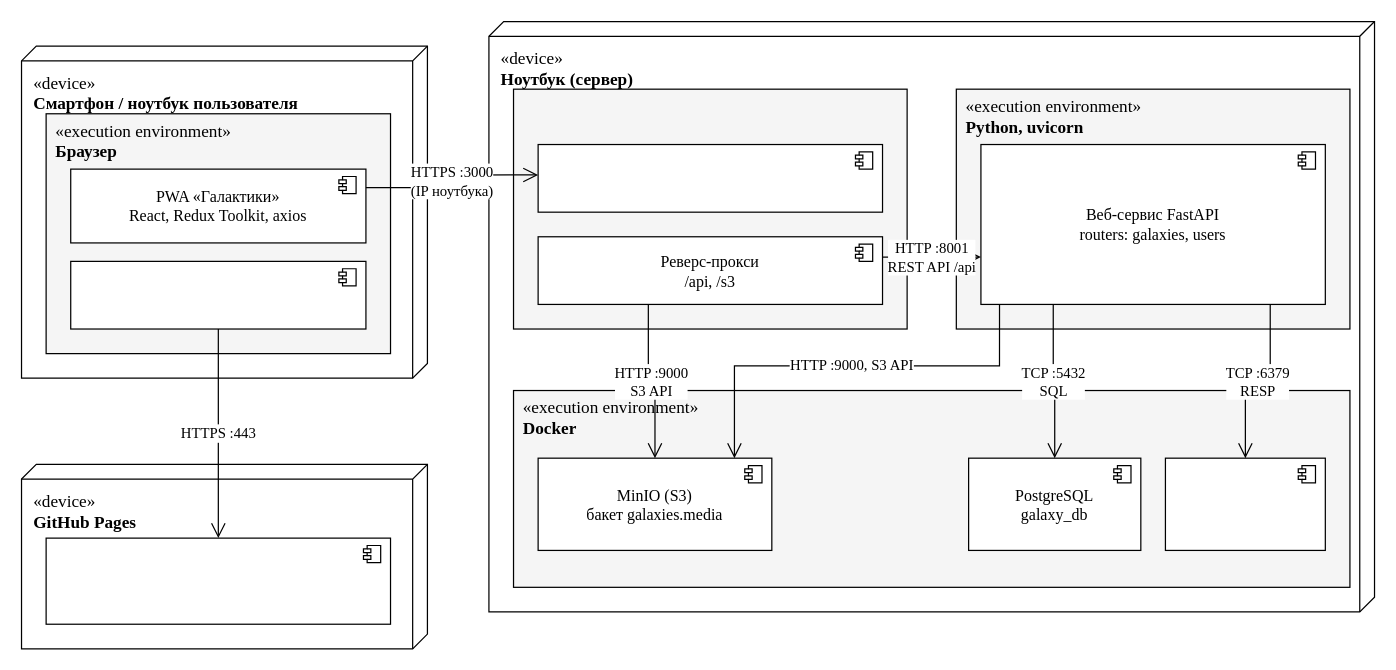
This 1396x670 diagram has some shape labels left out. The box of each missing label's shape, as (x1, y1, x2, y2) in pixels:
Redis сессии: (1164, 457, 1325, 550)
Service Worker (кэш, офлайн): (69, 260, 366, 329)
«execution environment» Node.js: (512, 88, 907, 329)
Сервер статики фронтенда Vite, HTTPS :3000: (537, 143, 883, 212)
Статика фронтенда (mock) index.html, JS, CSS, manifest, sw.js: (45, 537, 391, 624)
